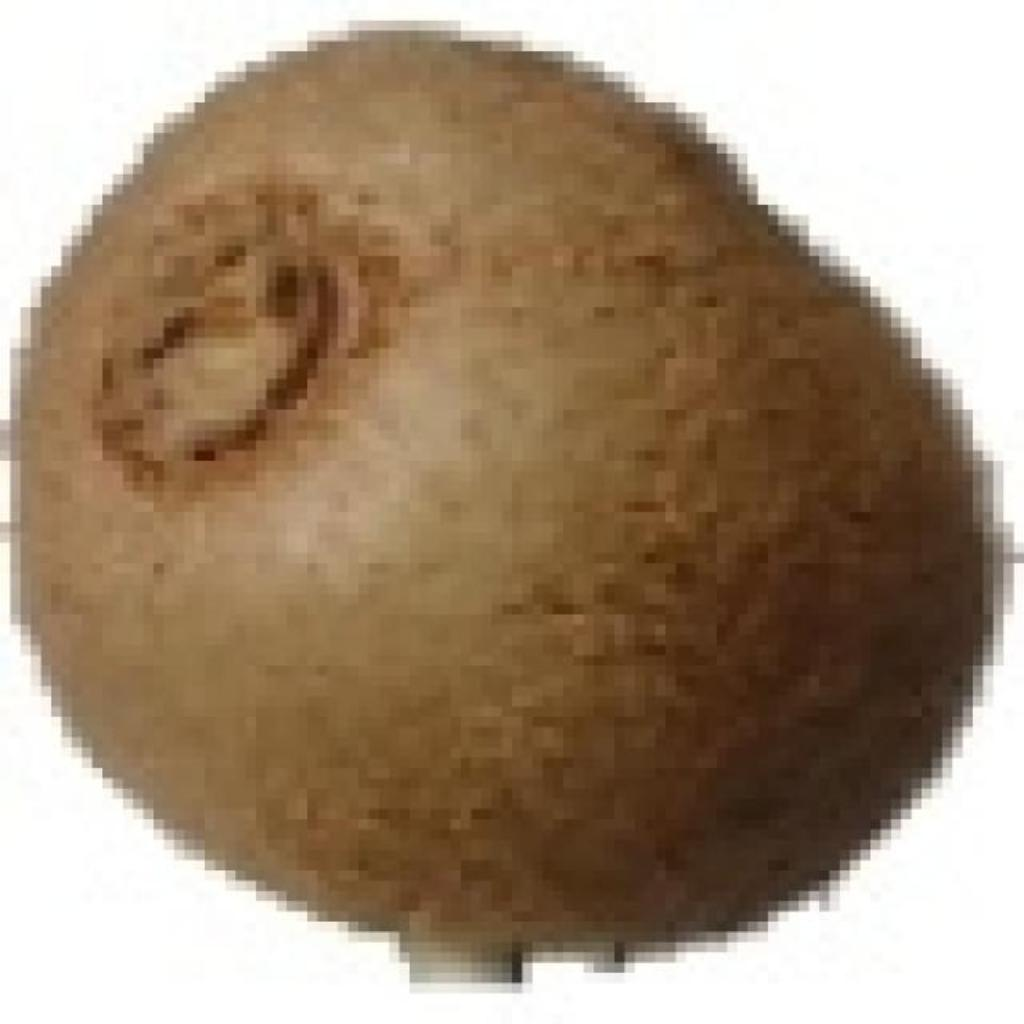kiwi: (0, 20, 983, 963), (829, 901, 1004, 1004)
